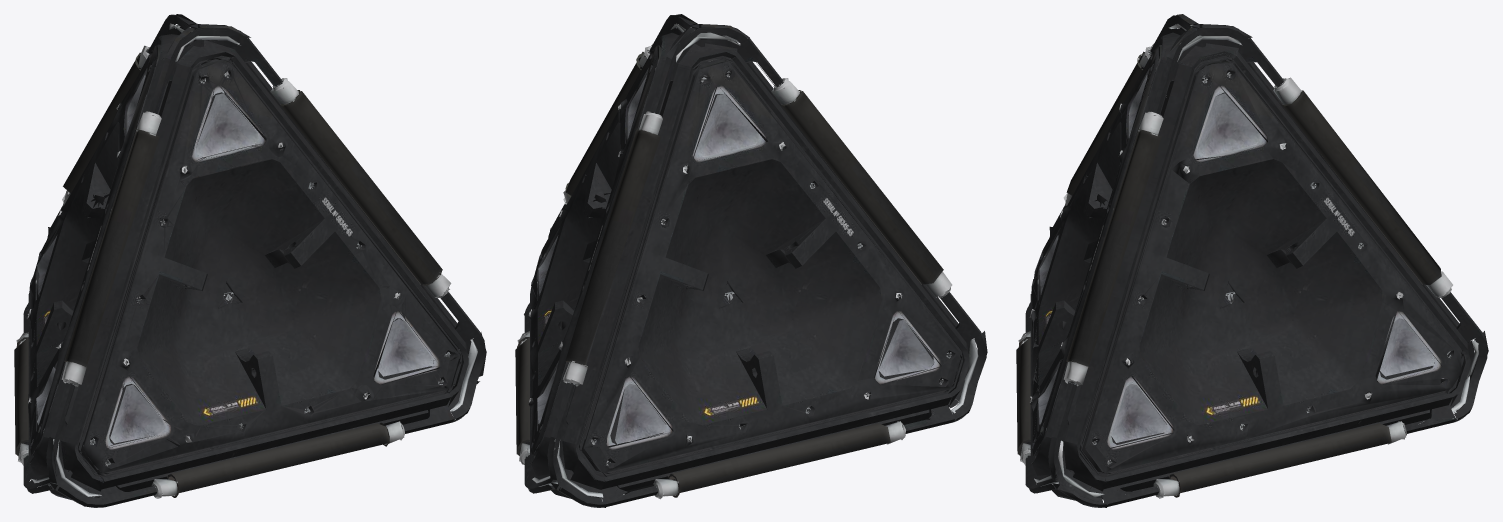
File: sci-fi-triangle-container.glb
The picture shows the model from 3 angles, left to right: view 1: azimuth 30°, elevation 25°; view 2: azimuth 150°, elevation 25°; view 3: azimuth 270°, elevation 25°; orthographic projection.
Visible parts, largest first — view 1: Sci-fi_triangle_container; view 2: Sci-fi_triangle_container; view 3: Sci-fi_triangle_container.
Boxes of the visible parts, box(x1,y1,x2,y2) form: Sci-fi_triangle_container: box(14, 14, 486, 507); Sci-fi_triangle_container: box(515, 14, 987, 507); Sci-fi_triangle_container: box(1016, 14, 1488, 507).
Size of the model in its own units: 1.01 by 0.8494 by 0.9411.
1 material, 1 textured.
